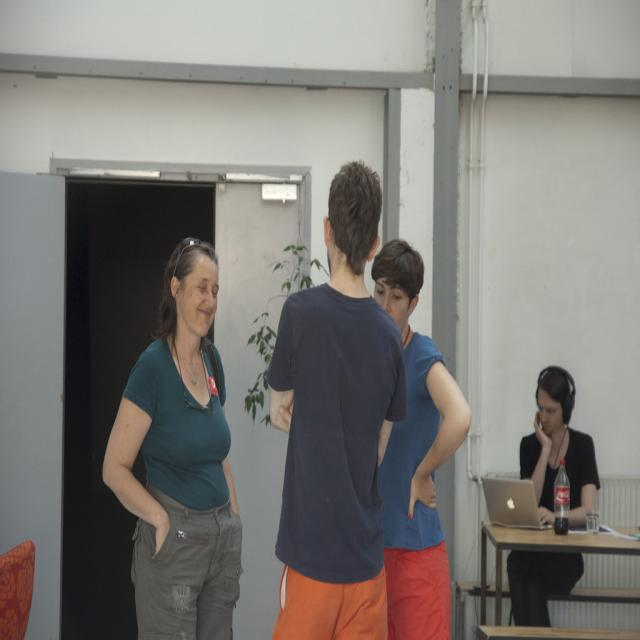desk: (483, 526, 639, 640)
laptop: (480, 476, 554, 530)
person: (266, 160, 408, 630), (102, 238, 243, 637), (370, 239, 472, 634), (507, 363, 600, 628)
